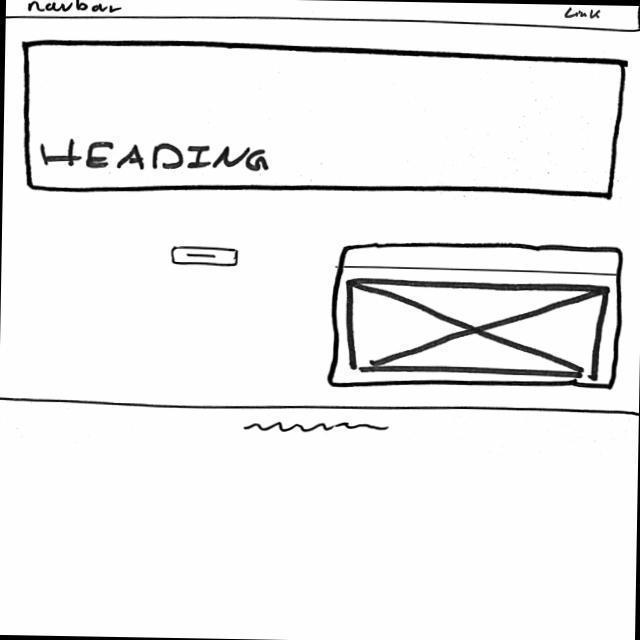container: (21, 37, 631, 202), (6, 1, 640, 31)
icon-button: (169, 245, 240, 271)
image: (346, 277, 611, 378)
label: (39, 137, 273, 175), (27, 1, 123, 15), (564, 7, 605, 22)
text: (241, 421, 392, 438)
